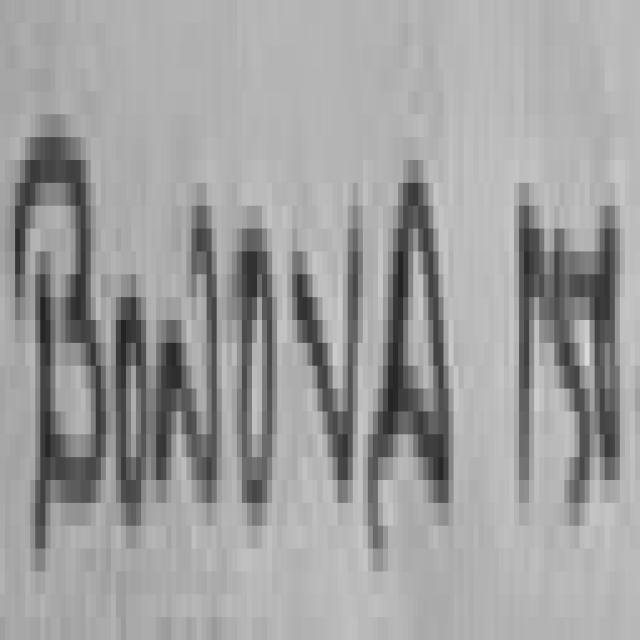0: (595, 229, 625, 480)
1: (524, 206, 549, 491)
5: (554, 252, 603, 524)
A: (372, 183, 454, 521)
B: (15, 137, 106, 537)
N: (156, 206, 217, 503)
O: (242, 229, 277, 503), (116, 297, 146, 526)
V: (297, 206, 363, 503)
